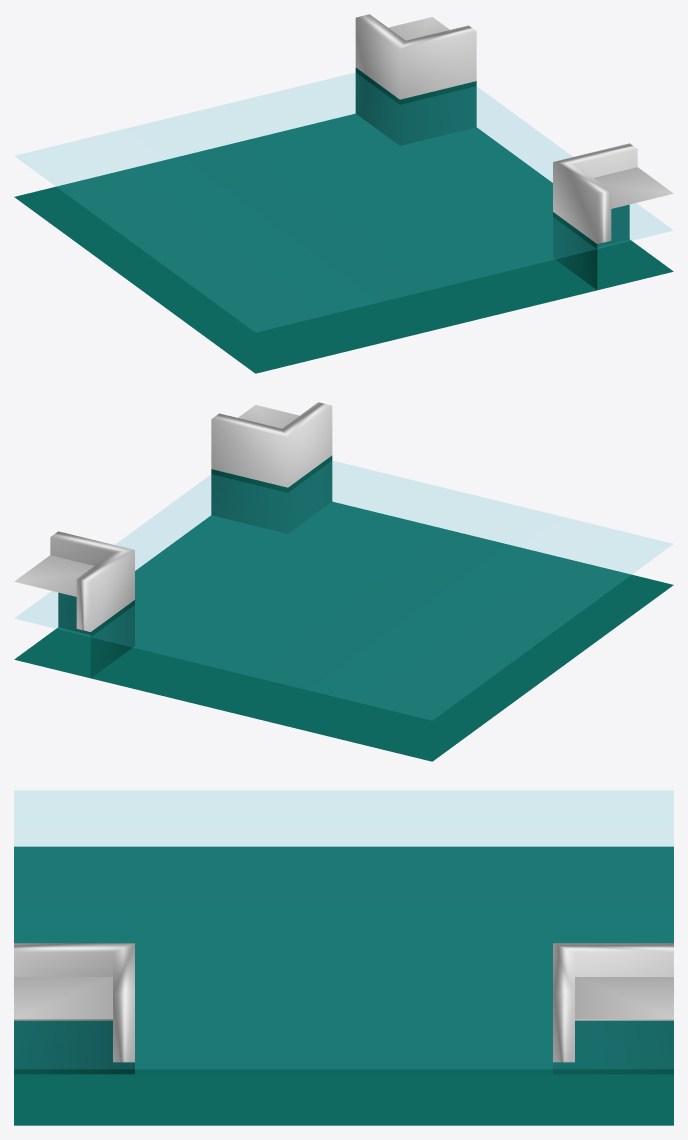
Rendered from Water_09.glb.
The picture shows the model from 3 angles, top to bottom: view 1: azimuth 30°, elevation 25°; view 2: azimuth 150°, elevation 25°; view 3: azimuth 270°, elevation 25°; orthographic projection. The views are drawn at different scales.
Visible parts, largest first — view 1: Water_09; view 2: Water_09; view 3: Water_09.
Part boxes in pixels (x1,y1,x2,y2): Water_09: (14,14,673,373); Water_09: (14,402,673,761); Water_09: (14,791,673,1125).
Size of the model in its own units: 15 by 3.29 by 15.
Materials: 2 (2 with a texture image).
